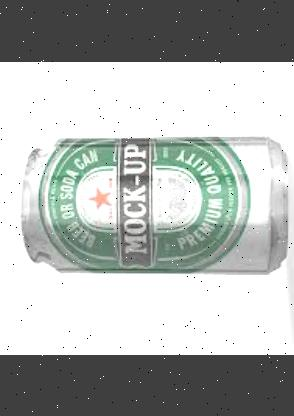Can: (22, 135, 288, 274)
